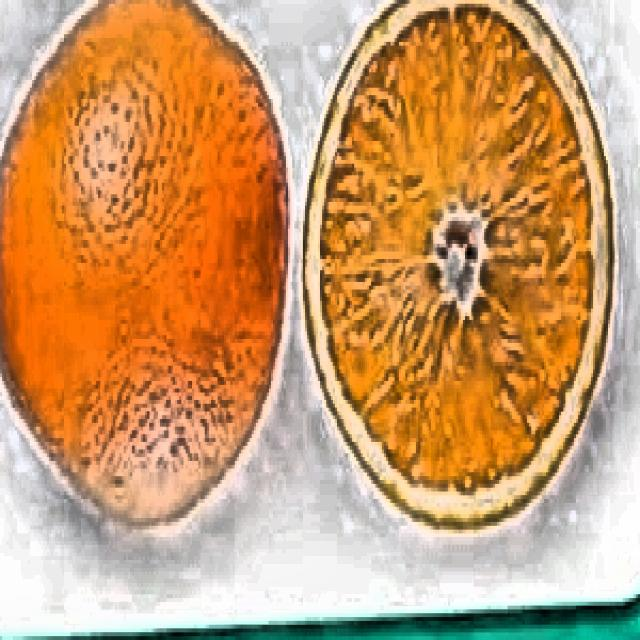Fruit: (0, 0, 593, 598)
